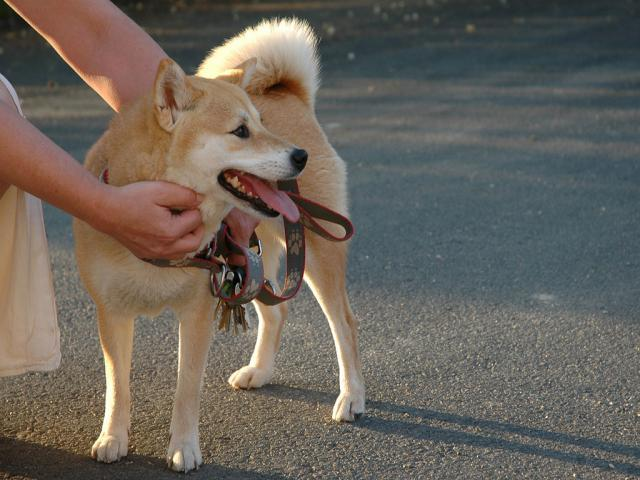Dog: (70, 15, 368, 474)
